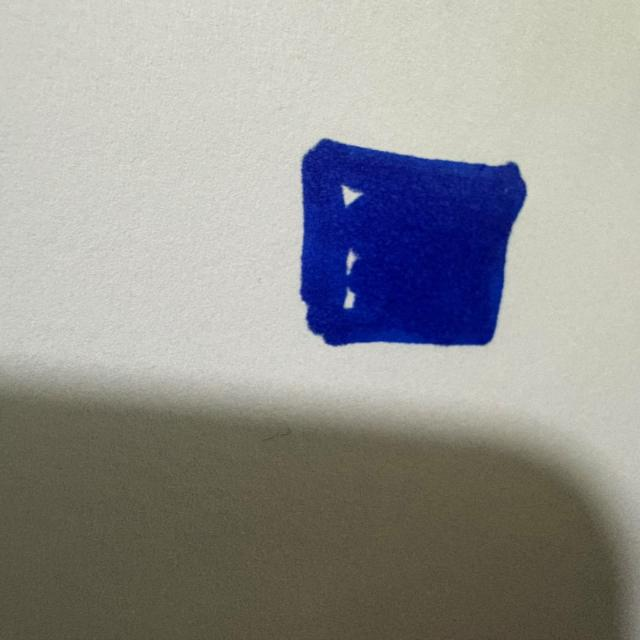Square: (300, 138, 527, 347)
